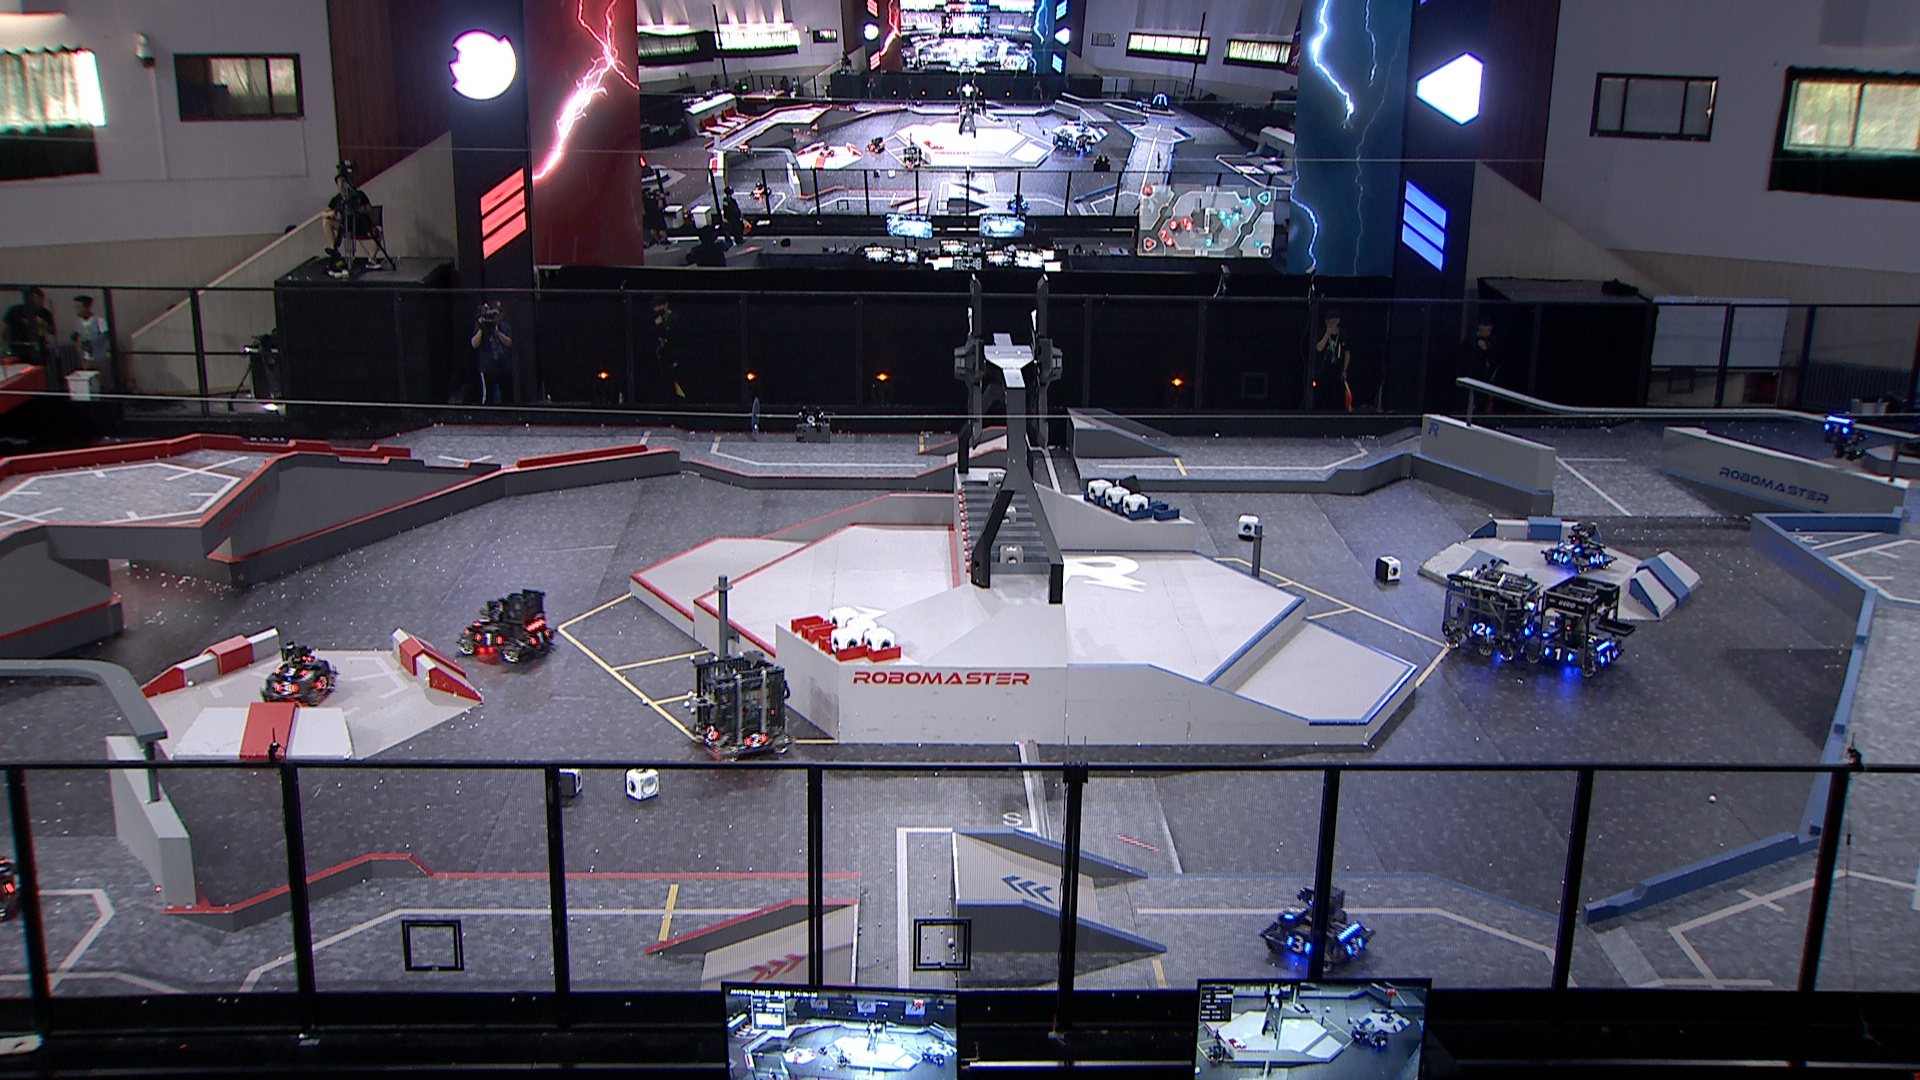armor: (1542, 644, 1575, 665), (1342, 932, 1367, 956), (3, 869, 25, 895), (1280, 901, 1309, 920), (1466, 618, 1494, 638), (469, 632, 504, 647), (272, 679, 299, 698), (1287, 934, 1311, 955), (1820, 419, 1849, 436), (273, 665, 309, 678), (744, 732, 767, 750), (1598, 646, 1619, 666), (527, 628, 550, 646), (468, 615, 495, 629), (1557, 541, 1581, 556), (1549, 549, 1571, 566), (703, 725, 723, 742), (1588, 549, 1605, 567), (1522, 618, 1538, 637), (314, 671, 328, 690)
base: (1892, 363, 1920, 463)
car: (688, 647, 798, 764), (1436, 556, 1544, 661), (1259, 882, 1378, 975), (1534, 574, 1629, 678), (455, 585, 558, 666), (257, 637, 339, 713), (1538, 518, 1618, 575)
ignore: (1069, 131, 1093, 158), (901, 142, 923, 171), (746, 178, 774, 200), (1006, 193, 1033, 214), (1048, 129, 1073, 150), (1205, 1044, 1228, 1067), (864, 135, 887, 156), (1352, 1022, 1373, 1046), (1370, 1027, 1391, 1048), (1149, 91, 1171, 111), (733, 140, 754, 157)
watcher: (1813, 409, 1870, 462)
